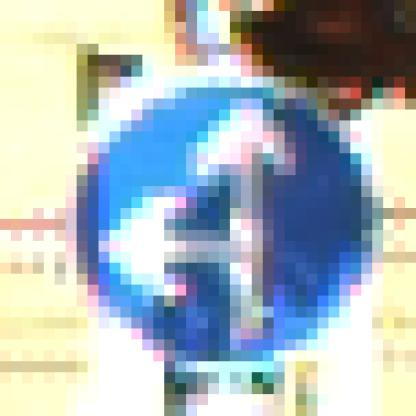Straight or Left: (67, 56, 362, 351)
